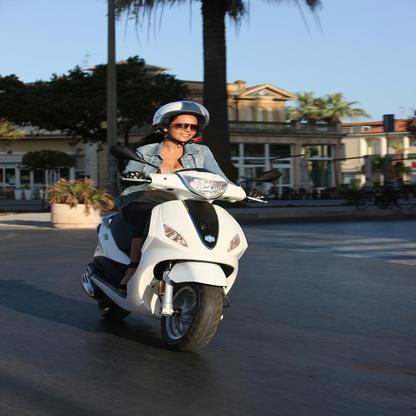target: (79, 101, 281, 354)
